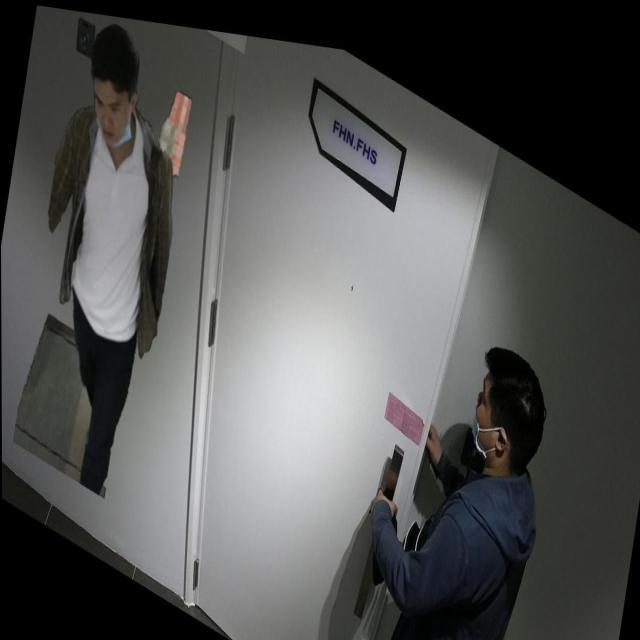hairnet: (82, 76, 138, 160), (466, 361, 504, 461)
